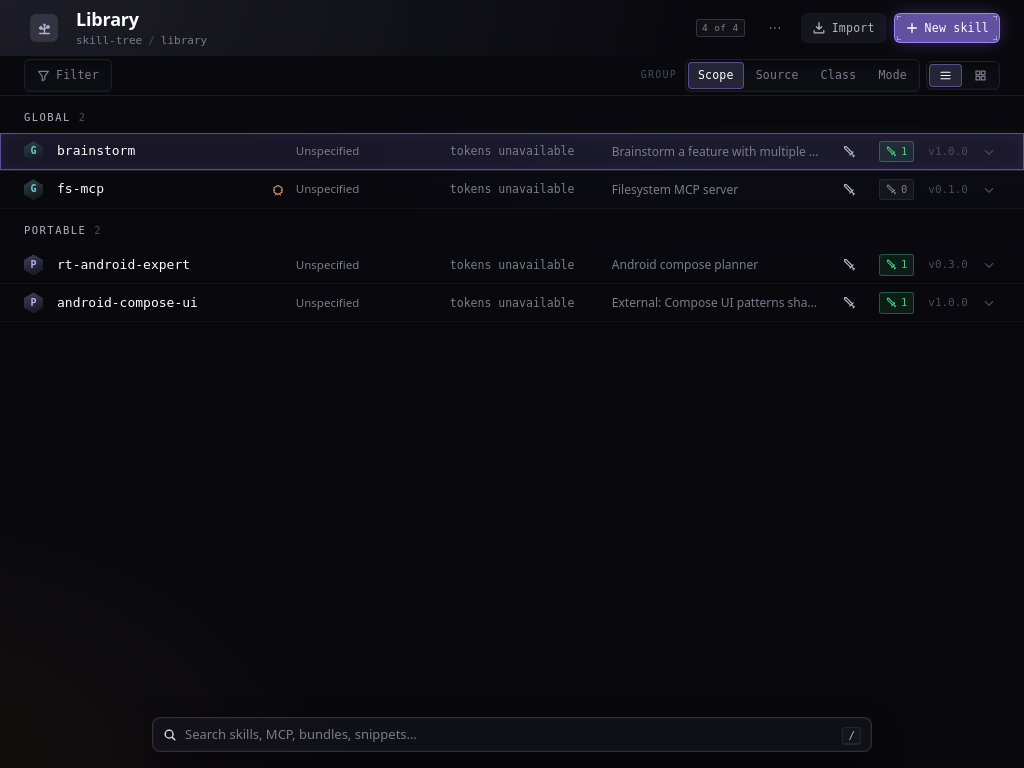
SkillLibrary — unified floating search › 3. typing filters the list in place
Type "android" into the field with test id "floating-search-input". click: (510, 734)
box: [185, 725, 834, 744]
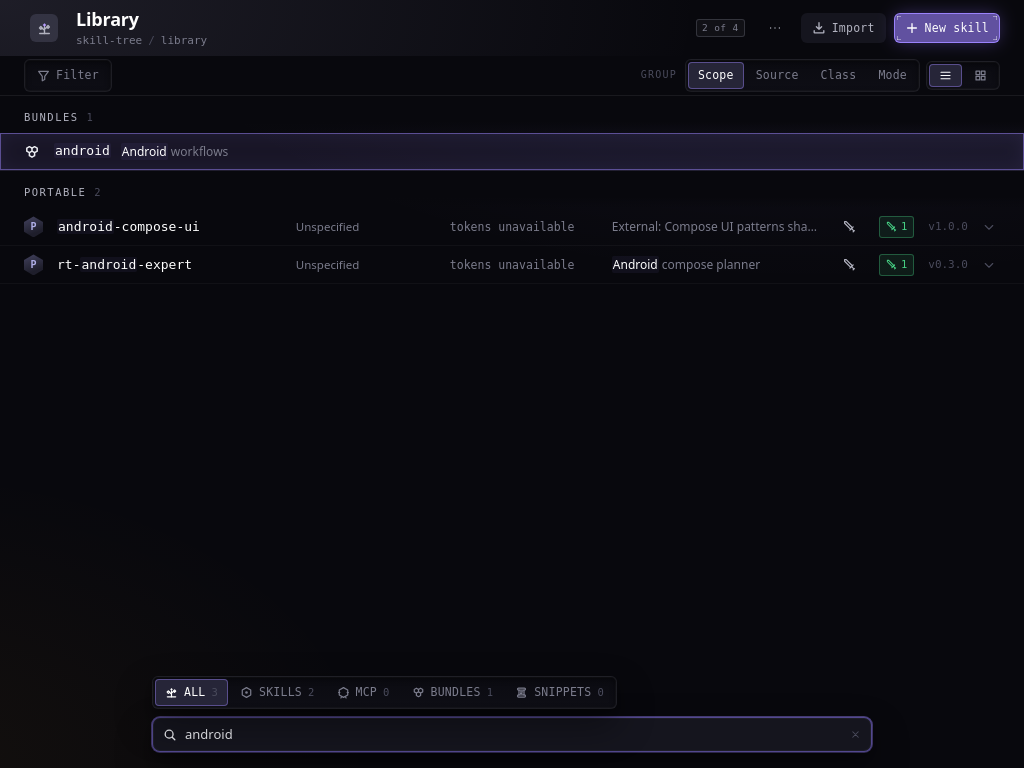
Check: the element titled "rt-android-expert" is shown, box [57, 256, 192, 272]
Check: the text titled "brainstorm" is gone
